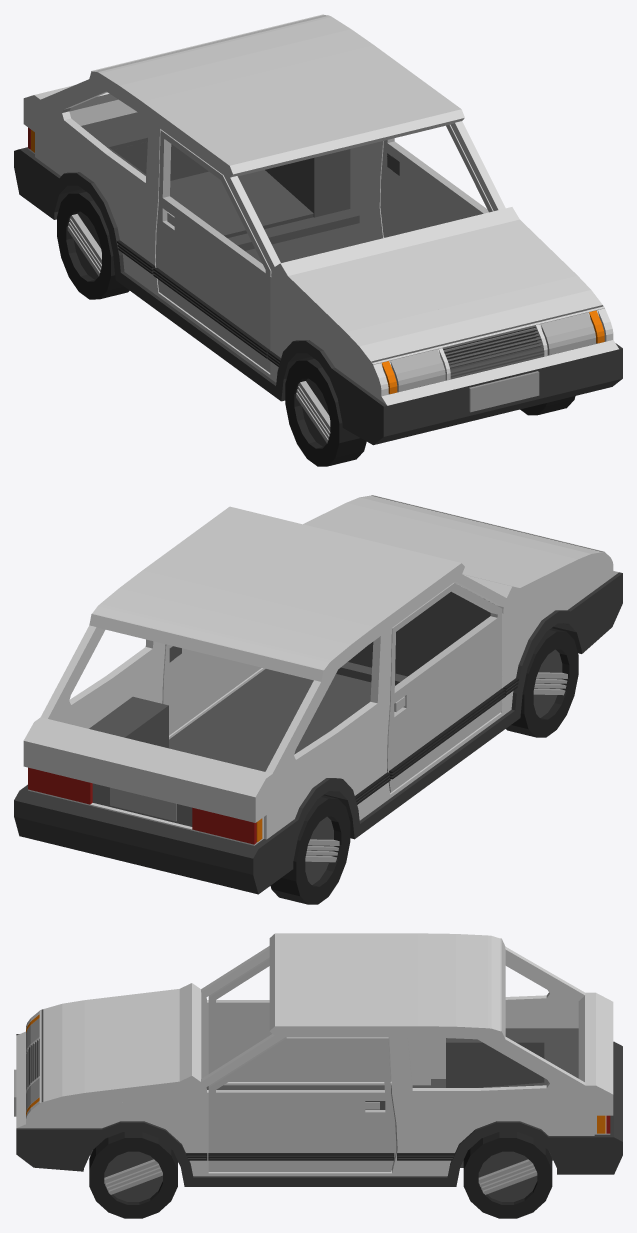
3 views of the same model, one above another, from view 1: azimuth 30°, elevation 25°; view 2: azimuth 150°, elevation 25°; view 3: azimuth 270°, elevation 25° (orthographic). The views are drawn at different scales.
Parts seen in each view (by area): view 1: hexadecagon_179, hexadecagon_354, hexadecagon_170, hexadecagon_180, hexadecagon_85, hexadecagon_220, hexadecagon_181, hexadecagon_352, hexadecagon_146, hexadecagon_353, hexadecagon_185, hexadecagon_131 (+38 smaller); view 2: hexadecagon_179, hexadecagon_134, hexadecagon_170, hexadecagon_354, hexadecagon_165, hexadecagon_180, hexadecagon_166, hexadecagon_181, hexadecagon_125, hexadecagon_124, hexadecagon_333, hexadecagon_220 (+40 smaller); view 3: hexadecagon_179, hexadecagon_220, hexadecagon_354, hexadecagon_170, hexadecagon_218, hexadecagon_255, hexadecagon_180, hexadecagon_122, hexadecagon_181, hexadecagon_118, hexadecagon_241, hexadecagon_353 (+51 smaller).
Part boxes in pixels (<box>): hexadecagon_179: <box>142,45,461,168</box>; hexadecagon_354: <box>296,221,569,330</box>; hexadecagon_170: <box>174,205,270,372</box>; hexadecagon_180: <box>119,29,373,106</box>; hexadecagon_85: <box>170,170,313,238</box>; hexadecagon_220: <box>399,150,488,233</box>; hexadecagon_181: <box>100,17,350,89</box>; hexadecagon_352: <box>368,292,594,359</box>; hexadecagon_146: <box>339,361,622,436</box>; hexadecagon_353: <box>354,278,582,344</box>; hexadecagon_185: <box>280,207,519,281</box>; hexadecagon_131: <box>330,343,622,419</box>; hexadecagon_179: <box>142,506,461,631</box>; hexadecagon_134: <box>169,669,371,771</box>; hexadecagon_170: <box>400,615,502,780</box>; hexadecagon_354: <box>311,505,569,585</box>; hexadecagon_165: <box>23,741,266,822</box>; hexadecagon_180: <box>120,570,374,648</box>; hexadecagon_166: <box>24,722,269,808</box>; hexadecagon_181: <box>100,588,351,662</box>; hexadecagon_125: <box>14,800,294,874</box>; hexadecagon_124: <box>14,816,259,894</box>; hexadecagon_333: <box>348,591,490,676</box>; hexadecagon_220: <box>182,648,261,725</box>; hexadecagon_179: <box>275,933,418,1030</box>; hexadecagon_220: <box>208,1090,365,1171</box>; hexadecagon_354: <box>84,992,179,1089</box>; hexadecagon_170: <box>208,1000,365,1081</box>; hexadecagon_218: <box>399,1088,456,1173</box>; hexadecagon_255: <box>456,1092,577,1129</box>; hexadecagon_180: <box>418,933,455,1030</box>; hexadecagon_122: <box>449,1045,544,1087</box>; hexadecagon_181: <box>456,934,487,1032</box>; hexadecagon_118: <box>184,1176,456,1186</box>; hexadecagon_241: <box>53,1105,191,1126</box>; hexadecagon_353: <box>62,1003,84,1092</box>.
Size of the model in its own units: 0.0104 by 0.00964 by 0.0279.
1 material, 1 textured.
